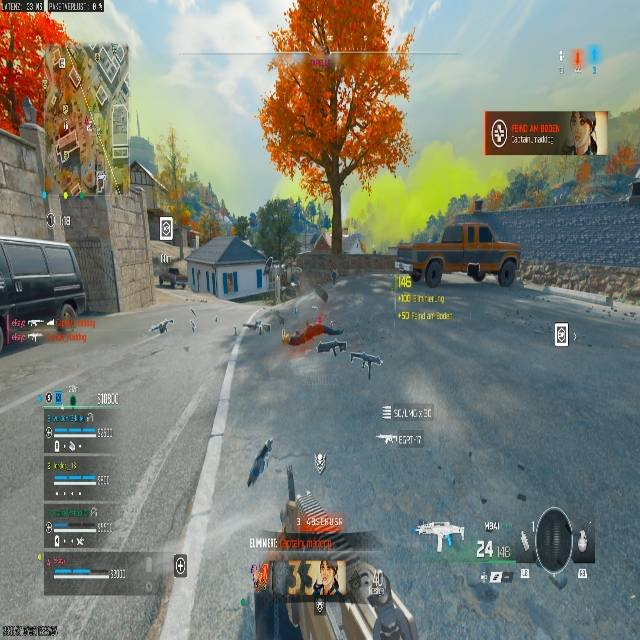head: (277, 492, 353, 553)
player: (261, 492, 420, 639)
